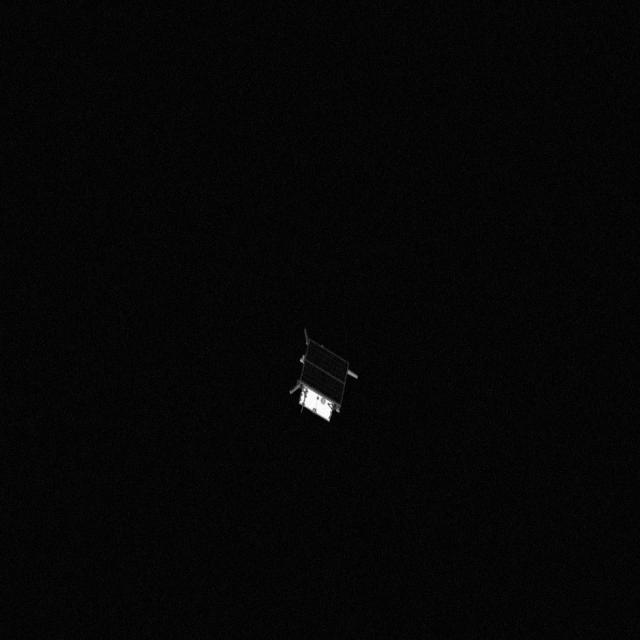satellite: (282, 320, 380, 428)
